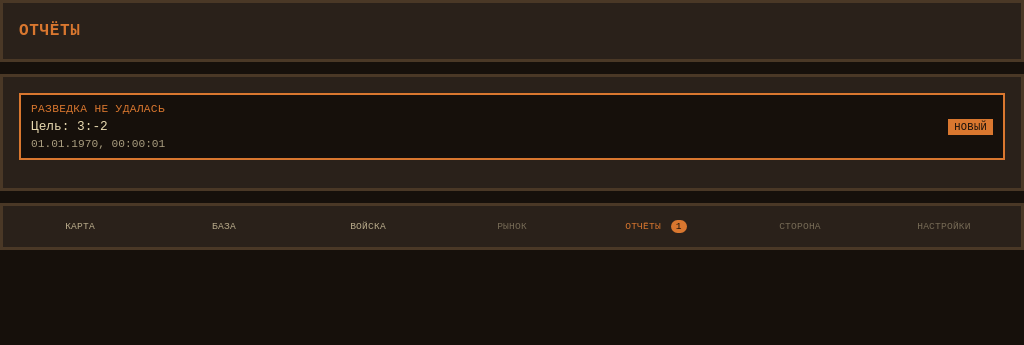
ReportsScreen — report detail per type › renders a scoutFailed report, distinguishing all-scouts-dead from target-not-found
Step 1. Click the text "Разведка не удалась" → [98, 109], box 31,103 -> 165,115
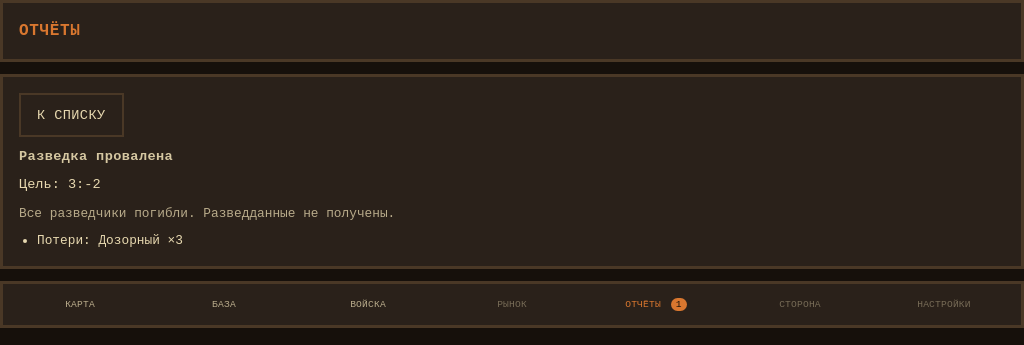
Check: the text "Все разведчики погибли. Разведданные не получены." is shown, box 19,206 -> 395,221
Check: the element with class "report-detail" shows "Дозорный ×3", box 37,233 -> 183,248
